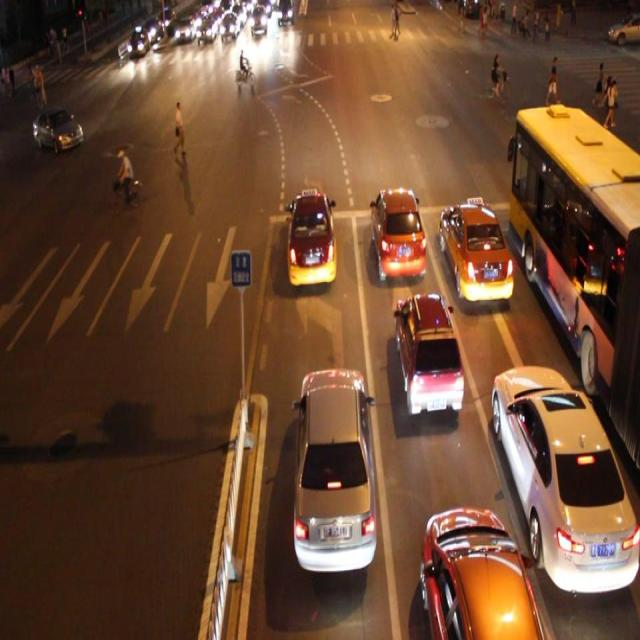car: (492, 358, 640, 591), (290, 365, 376, 578), (420, 501, 540, 640), (393, 293, 464, 416), (438, 200, 512, 304), (370, 185, 426, 278), (285, 185, 335, 287), (35, 109, 84, 152)
van: (512, 104, 640, 464)
